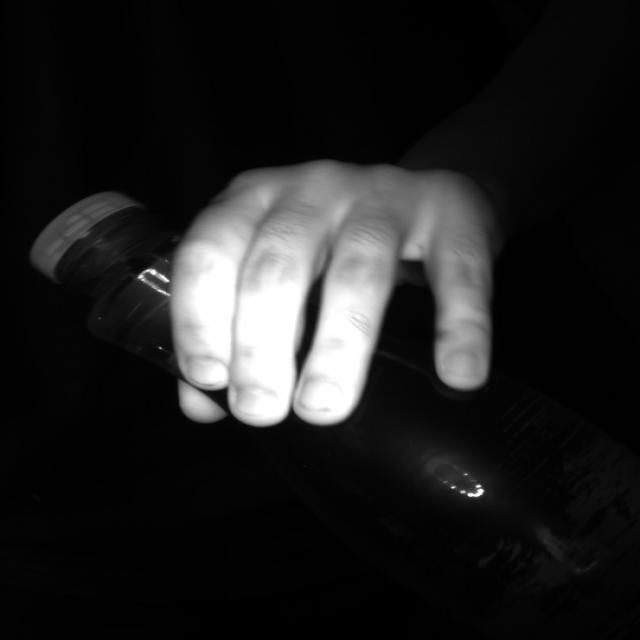Not Good: (28, 190, 142, 284)
